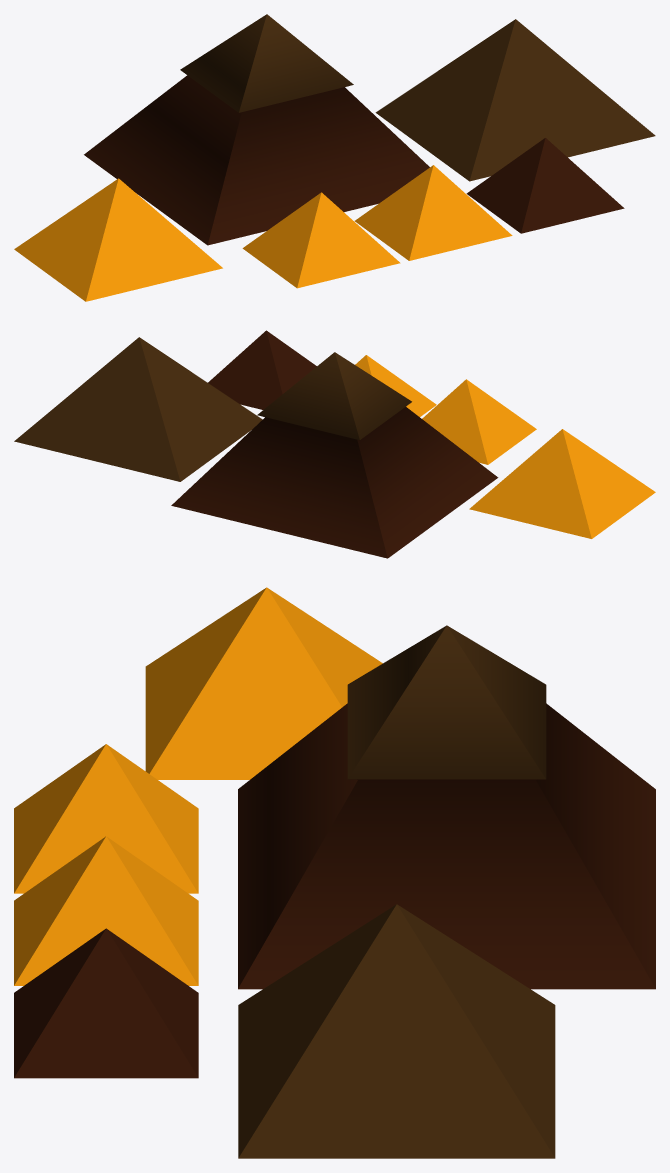
3 renders of one model, top to bottom at view 1: azimuth 30°, elevation 25°; view 2: azimuth 150°, elevation 25°; view 3: azimuth 270°, elevation 25°, orthographic. The views are drawn at different scales.
Visible parts, largest first — view 1: Pyramid002, Pyramid006, Pyramid001, Pyramid004, Pyramid005, Pyramid003; view 2: Pyramid002, Pyramid006, Pyramid001, Pyramid003, Pyramid005, Pyramid004; view 3: Pyramid002, Pyramid006, Pyramid001, Pyramid005, Pyramid003, Pyramid004.
Part boxes in pixels (x1,y1,x2,y2): Pyramid002: [84, 14, 429, 245]; Pyramid006: [375, 19, 655, 181]; Pyramid001: [14, 178, 222, 301]; Pyramid004: [355, 165, 512, 260]; Pyramid005: [466, 138, 624, 233]; Pyramid003: [242, 192, 400, 288]; Pyramid002: [171, 352, 498, 558]; Pyramid006: [14, 337, 262, 481]; Pyramid001: [469, 429, 655, 538]; Pyramid003: [422, 379, 536, 464]; Pyramid005: [208, 330, 316, 409]; Pyramid004: [355, 355, 436, 416]; Pyramid002: [238, 625, 655, 989]; Pyramid006: [238, 904, 555, 1158]; Pyramid001: [145, 587, 382, 779]; Pyramid005: [14, 928, 198, 1078]; Pyramid003: [14, 744, 198, 893]; Pyramid004: [14, 836, 198, 985].
Size of the model in its own units: 359 by 89.78 by 198.
